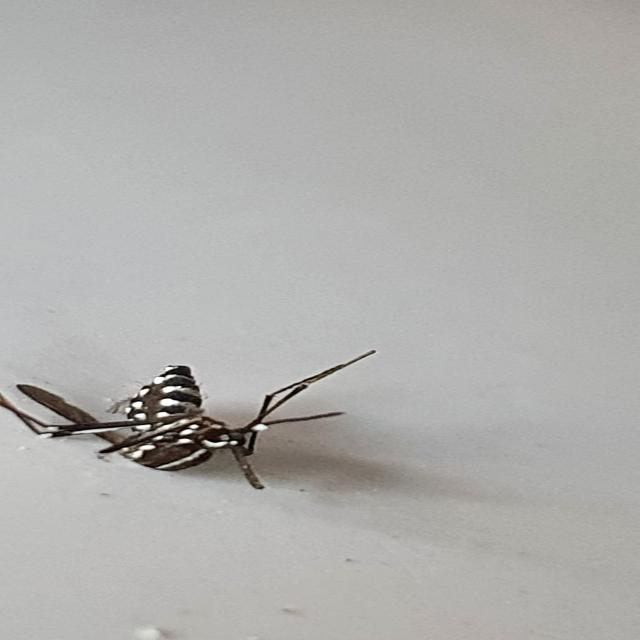albopictus: (16, 344, 385, 488)
